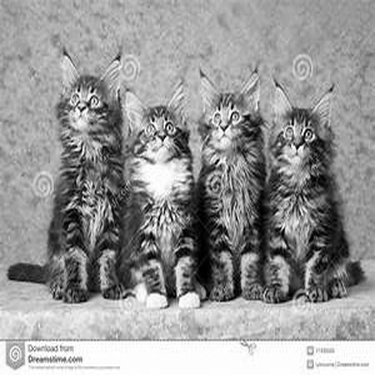cat: (8, 43, 131, 304), (261, 77, 365, 305), (114, 76, 207, 312), (192, 55, 272, 301)
